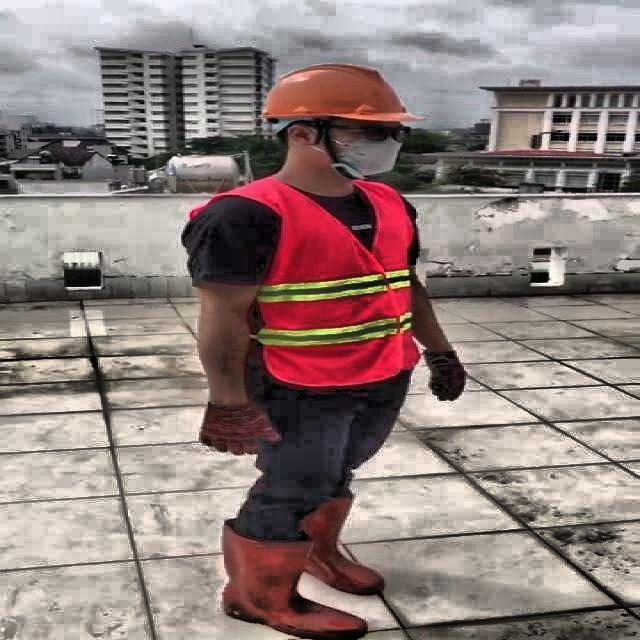safety_helmet: (254, 60, 414, 124)
safety_jacket: (248, 182, 420, 386)
